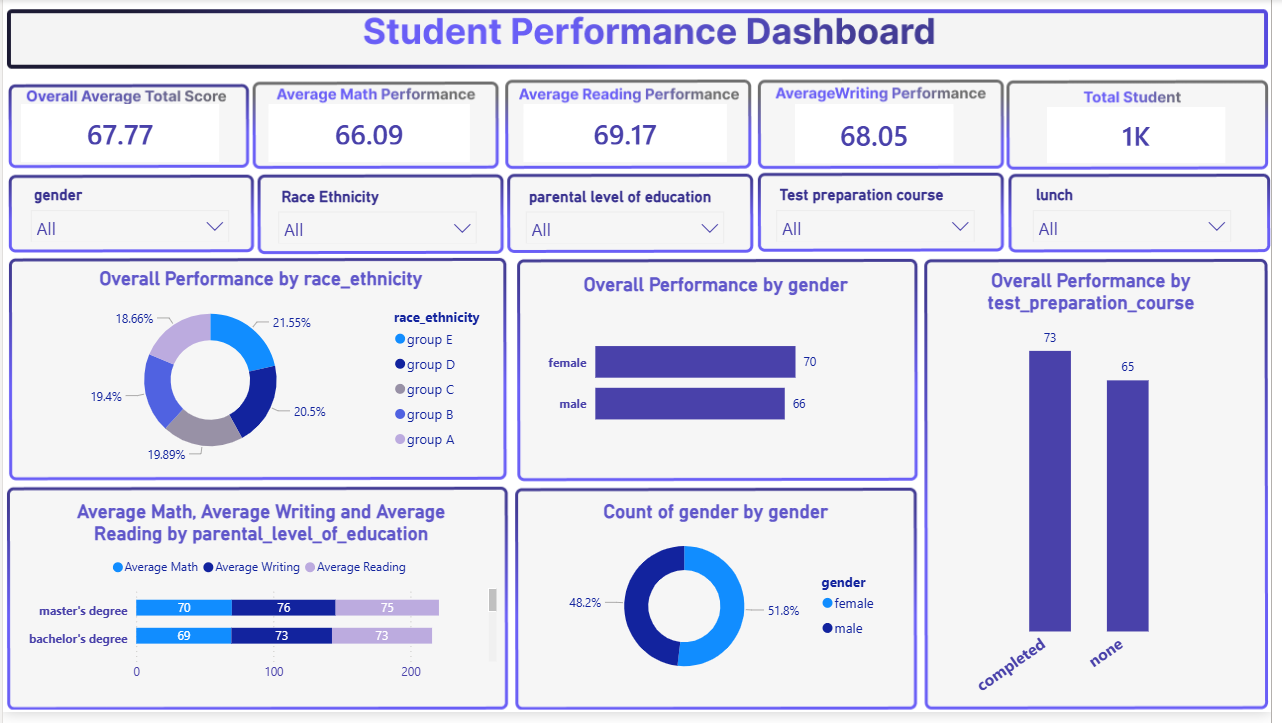

Layout of this report page (visuals, bound fields, positions):
{"tool":"powerbi","page":{"name":"Page 1","canvas":[1280,720],"ordinal":0},"visuals":[{"type":"slicer","fields":{"Values":["study_performance.gender"]},"box":[18.3,183.3,220,61.7],"z":0},{"type":"cardVisual","fields":{"Data":["Dax.Overall Performance"]},"box":[18.3,106.7,200,58.3],"z":1000},{"type":"slicer","fields":{"Values":["study_performance.race_ethnicity"]},"box":[268.3,185,220,61.7],"z":2000},{"type":"slicer","fields":{"Values":["study_performance.parental_level_of_education"]},"box":[518.3,185,220,61.7],"z":3000},{"type":"slicer","fields":{"Values":["study_performance.test_preparation_course"]},"box":[770,183.3,220,61.7],"z":4000},{"type":"slicer","fields":{"Values":["study_performance.lunch"]},"box":[1030,183.3,220,61.7],"z":5000},{"type":"cardVisual","fields":{"Data":["Dax.Average Math"]},"box":[268.3,106.7,203.3,58.3],"z":6000},{"type":"cardVisual","fields":{"Data":["Dax.Average Reading"]},"box":[525,106.7,205,58.3],"z":7000},{"type":"cardVisual","fields":{"Data":["Dax.Average Writing"]},"box":[800,106.7,160,60],"z":8000},{"type":"cardVisual","fields":{"Data":["Dax.Student Count"]},"box":[1053.3,108.3,180,56.7],"z":9000},{"type":"clusteredBarChart","fields":{"Category":["study_performance.gender"],"Y":["Dax.Overall Performance"]},"box":[543.3,276.7,351.7,191.7],"z":10000},{"type":"donutChart","fields":{"Category":["study_performance.gender"],"Y":["CountNonNull(study_performance.gender)"]},"box":[543.3,505,351.7,191.7],"z":11000},{"type":"donutChart","fields":{"Category":["study_performance.race_ethnicity"],"Y":["Dax.Overall Performance"]},"box":[18.2,271,484.5,204.4],"z":12000},{"type":"barChart","fields":{"Category":["study_performance.parental_level_of_education"],"Y":["Dax.Average Math","Dax.Average Writing","Dax.Average Reading"]},"box":[18.3,505,485,191.7],"z":13000},{"type":"clusteredColumnChart","fields":{"Category":["study_performance.test_preparation_course"],"Y":["Dax.Overall Performance"]},"box":[959.7,272,276.6,448.6],"z":14000}]}

Visuals, with their boxes in screenshot pixels (x1, y1, x2, y2), scaled from the page's 1280x720 canvas onto the 1282x723 screenshot:
slicer - study_performance.gender: rect(18, 184, 239, 246)
cardVisual - Dax.Overall Performance: rect(18, 107, 219, 166)
slicer - study_performance.race_ethnicity: rect(269, 186, 489, 248)
slicer - study_performance.parental_level_of_education: rect(519, 186, 739, 248)
slicer - study_performance.test_preparation_course: rect(771, 184, 992, 246)
slicer - study_performance.lunch: rect(1032, 184, 1252, 246)
cardVisual - Dax.Average Math: rect(269, 107, 472, 166)
cardVisual - Dax.Average Reading: rect(526, 107, 731, 166)
cardVisual - Dax.Average Writing: rect(801, 107, 961, 167)
cardVisual - Dax.Student Count: rect(1055, 109, 1235, 166)
clusteredBarChart - study_performance.gender x Dax.Overall Performance: rect(544, 278, 896, 470)
donutChart - study_performance.gender x CountNonNull(study_performance.gender): rect(544, 507, 896, 700)
donutChart - study_performance.race_ethnicity x Dax.Overall Performance: rect(18, 272, 503, 477)
barChart - study_performance.parental_level_of_education x Dax.Average Math: rect(18, 507, 504, 700)
clusteredColumnChart - study_performance.test_preparation_course x Dax.Overall Performance: rect(961, 273, 1238, 722)
